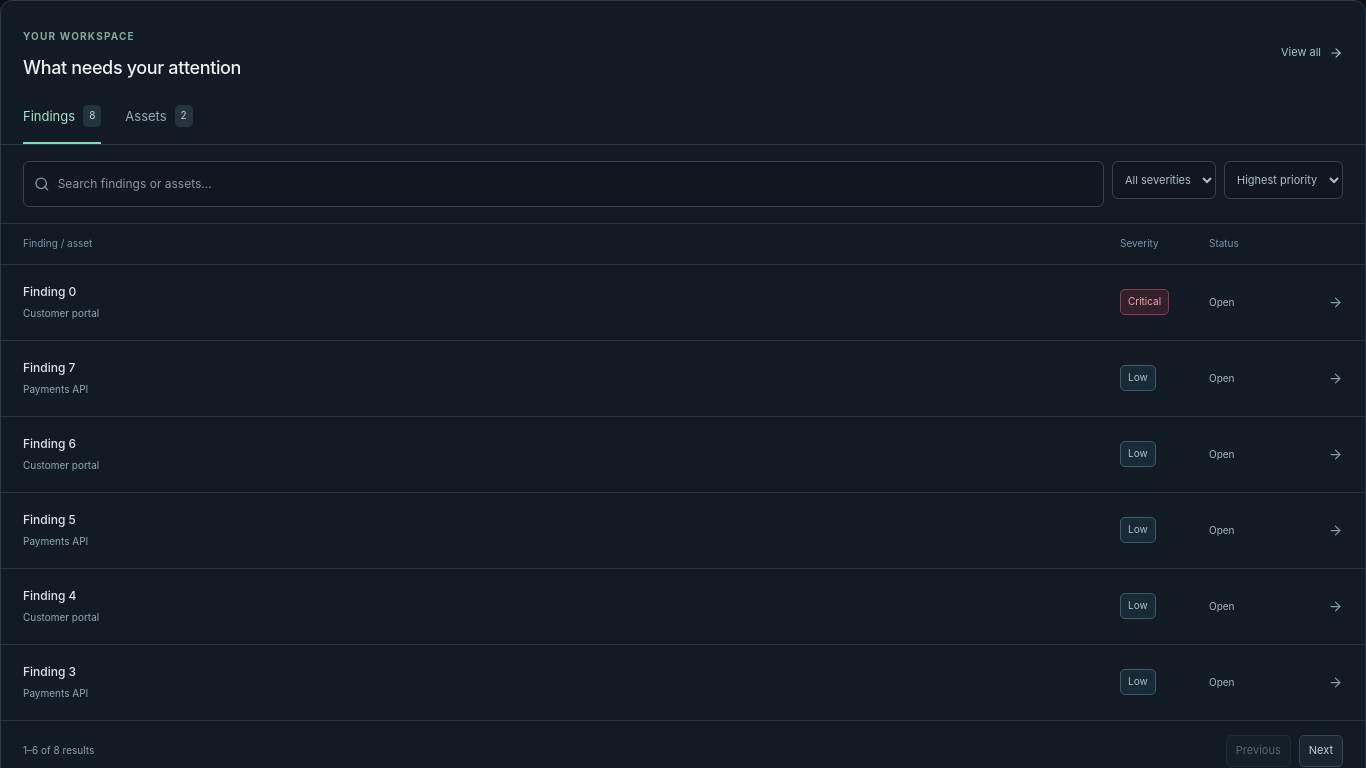
Scenario: DashboardWorkbench › filters assets by verification and links to asset detail
Step 1. Click the button "Assets 2" → (159, 124), box [125,104,193,144]
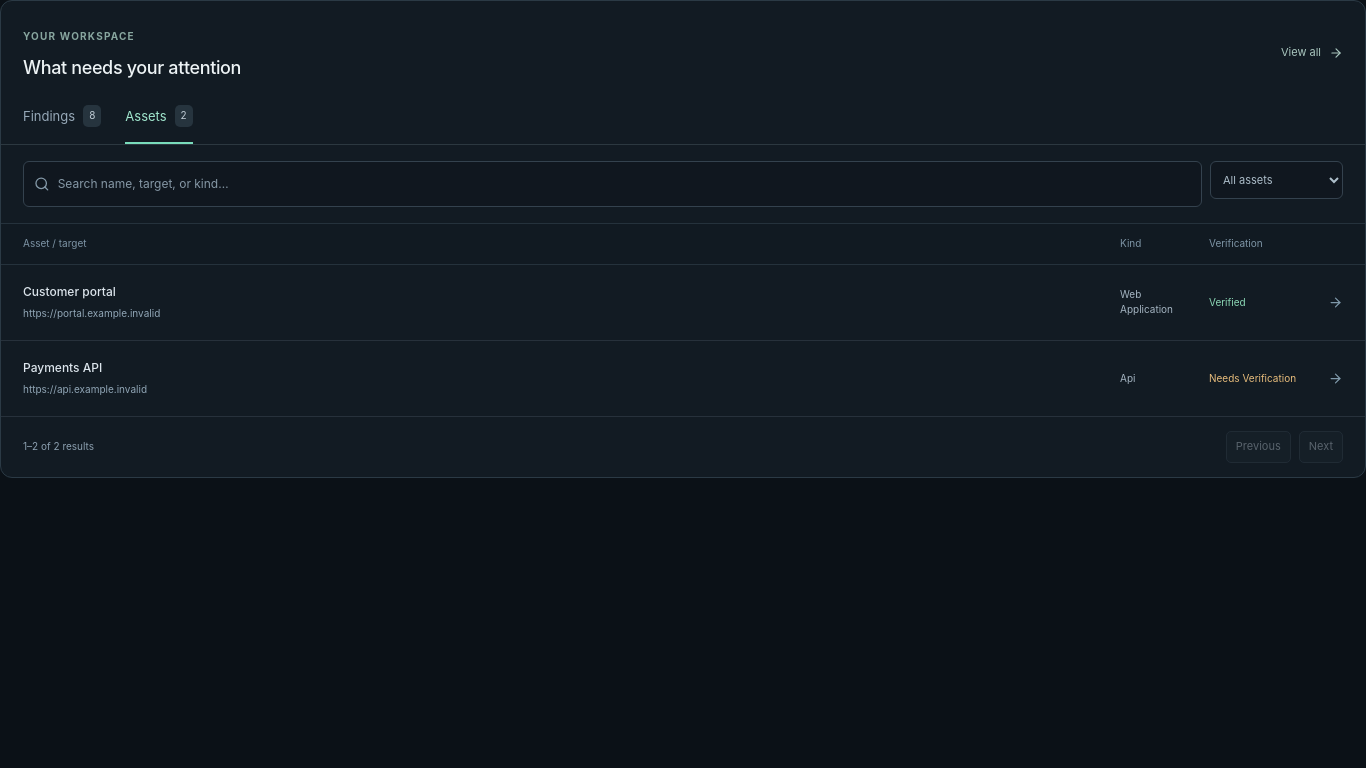
Step 2. Select "Needs verification" in the dropdown named "Verification" → (1276, 180), box [1210,161,1343,199]
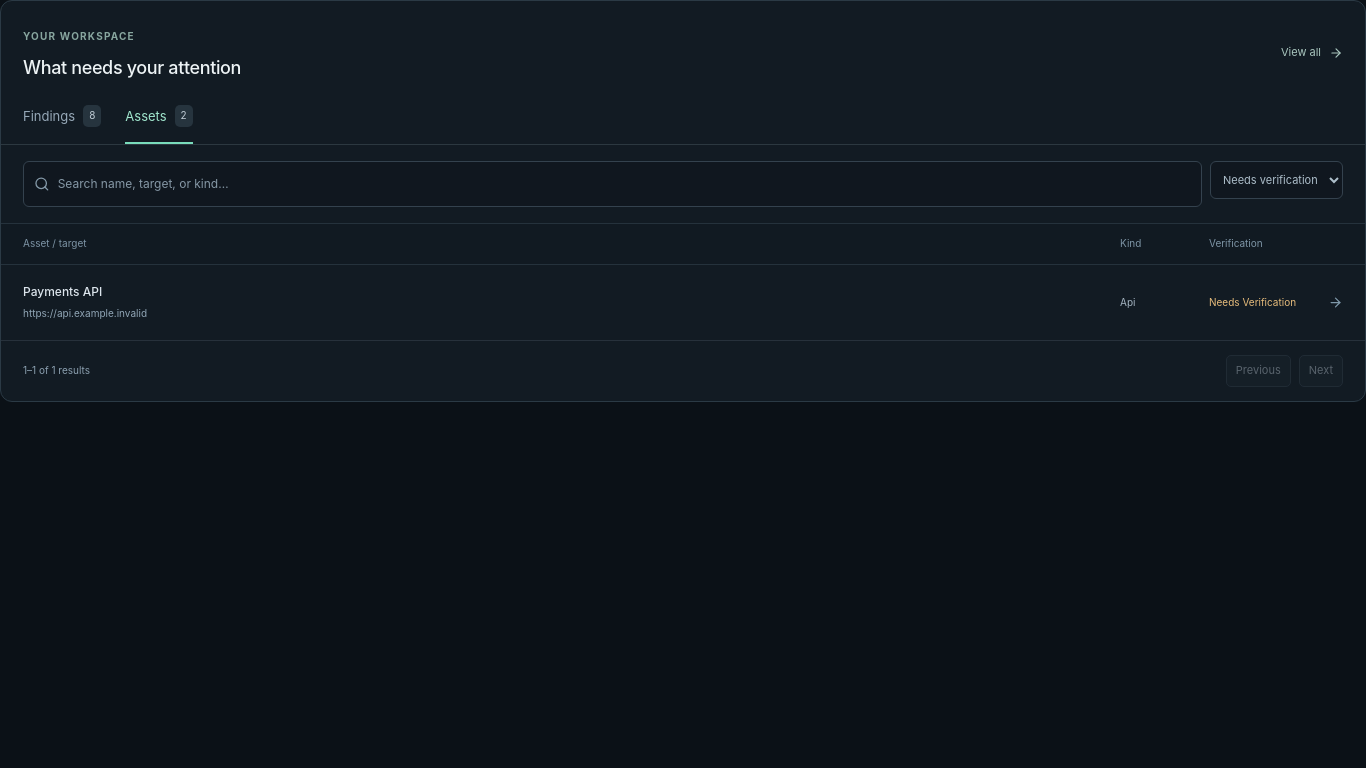
Check: the link "Customer portal" is gone
